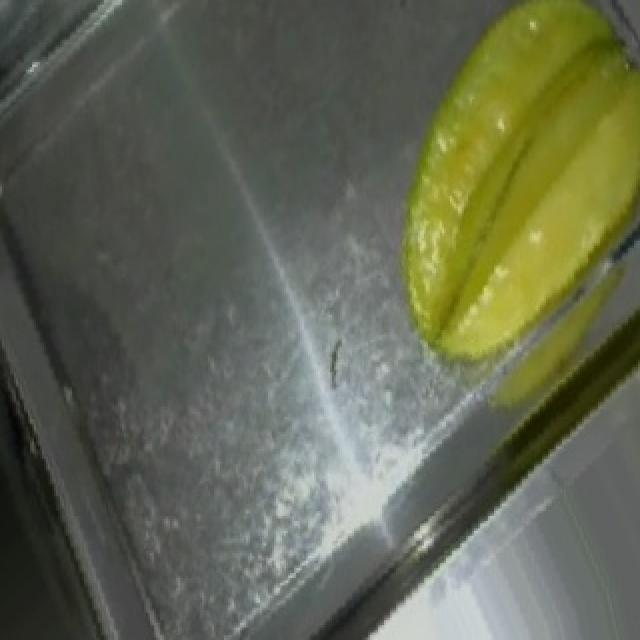fruit: (358, 2, 640, 387)
